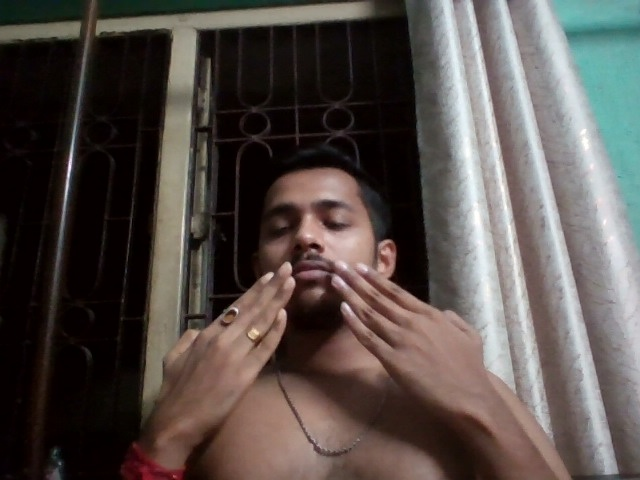Thankyou: (136, 224, 528, 449)
